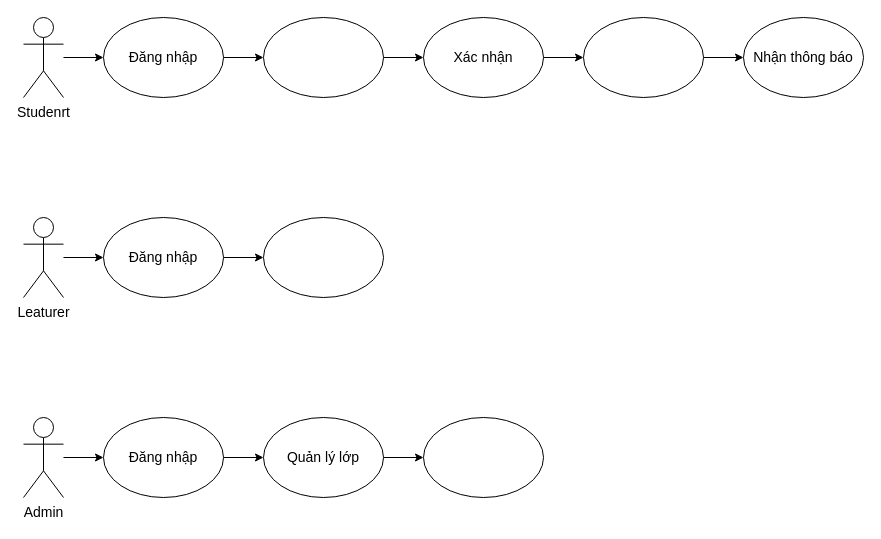
Image size: 881x539. Some labels were removed from this diagram. The box of each missing label's shape, as (x1, y1, x2, y2) in pixels:
Chọn môn: (262, 16, 384, 98)
Cập nhật điểm: (262, 216, 384, 298)
Lưu: (582, 16, 704, 98)
Quản lý sinh viên: (422, 416, 544, 498)
